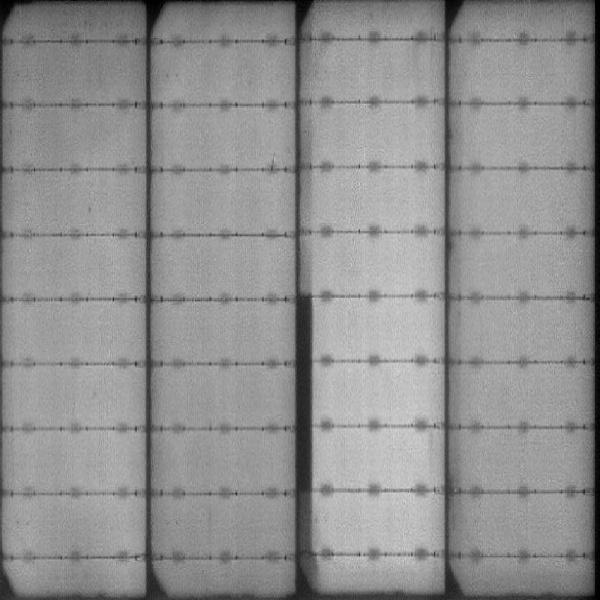black_border: (291, 287, 318, 570)
